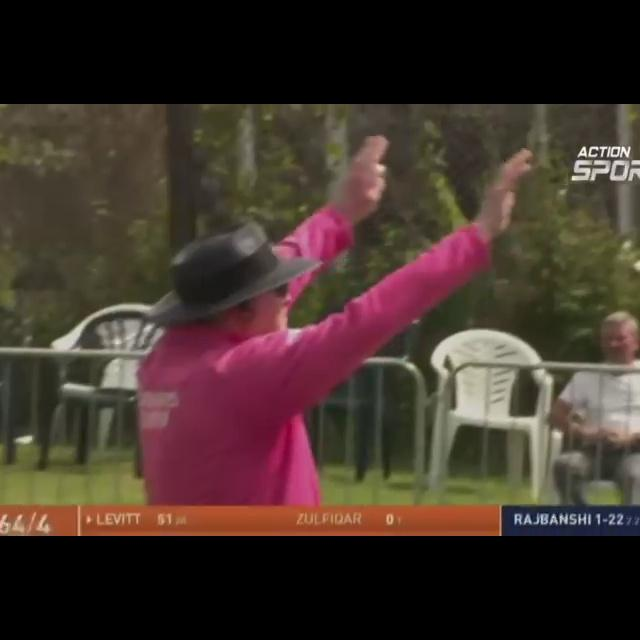umpire: (95, 104, 552, 502)
